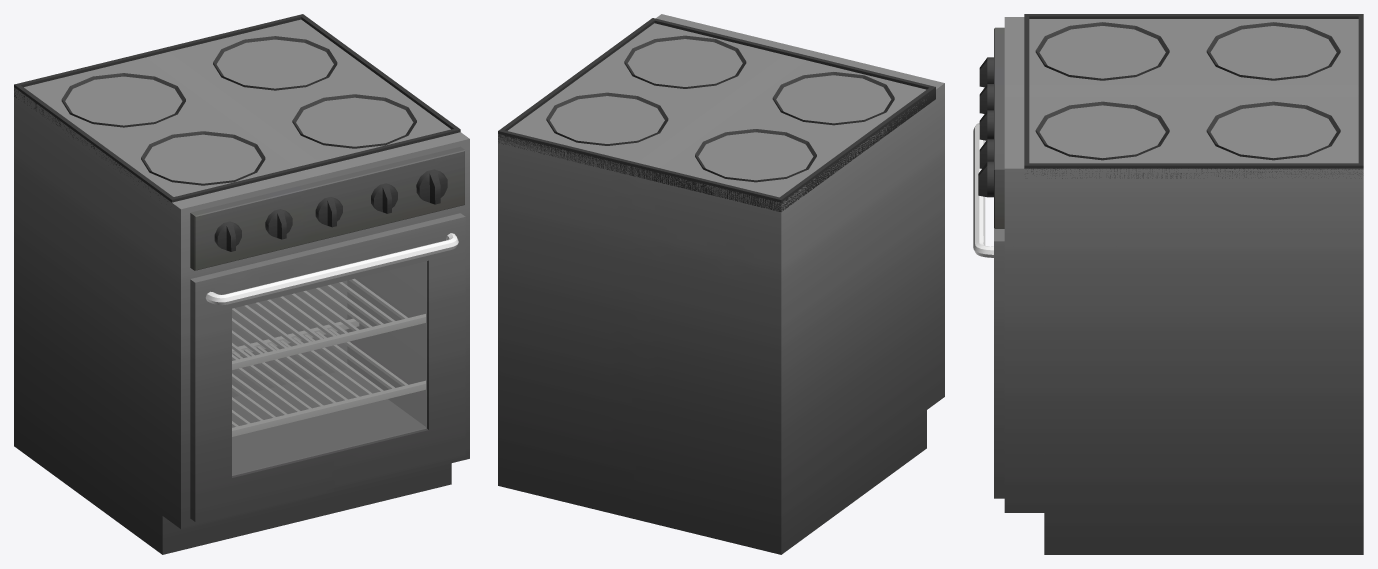
Rendered from kitchen_stove_mora.glb.
3 views of the same model, side by side, from view 1: azimuth 30°, elevation 25°; view 2: azimuth 150°, elevation 25°; view 3: azimuth 270°, elevation 25° (orthographic). The views are drawn at different scales.
Visible parts, largest first — view 1: MSH_Stove_MTA_Kitchen_0, MSH_Stove_MTA_Transparencia_0; view 2: MSH_Stove_MTA_Kitchen_0; view 3: MSH_Stove_MTA_Kitchen_0.
Part boxes in pixels (box(x1,y1,x2,y2)): MSH_Stove_MTA_Kitchen_0: box(14, 14, 469, 554); MSH_Stove_MTA_Transparencia_0: box(232, 261, 426, 475); MSH_Stove_MTA_Kitchen_0: box(498, 14, 944, 554); MSH_Stove_MTA_Kitchen_0: box(973, 14, 1363, 554).
Bounding box in the file's own units: 100 × 120 × 109.
2 materials, 1 textured.
